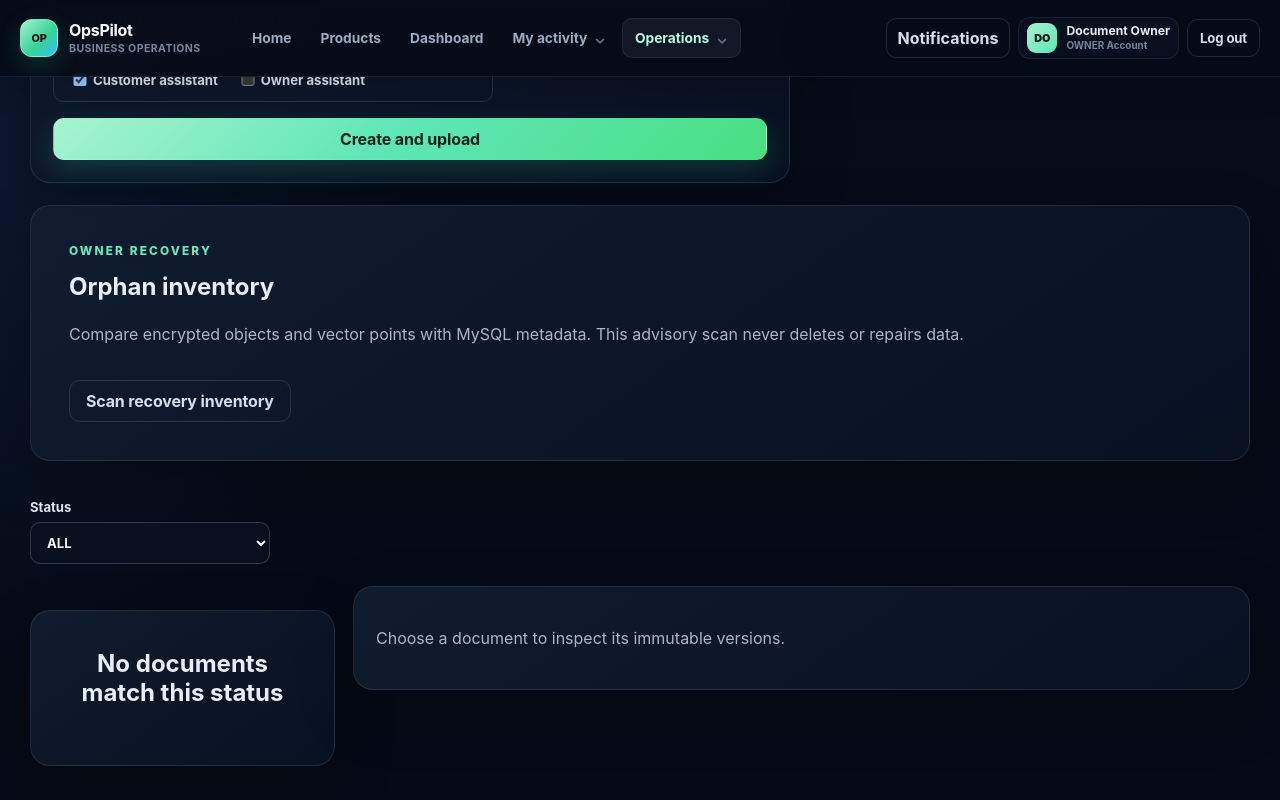
Phase 8 RAG UI › shows aggregate advisory recovery inventory only to the owner
(page scrolled)
Expected: the heading "Orphan inventory" is shown, [69,272,274,301]
Click the button "Scan recovery inventory".
click(180, 401)  # box [69,380,291,422]
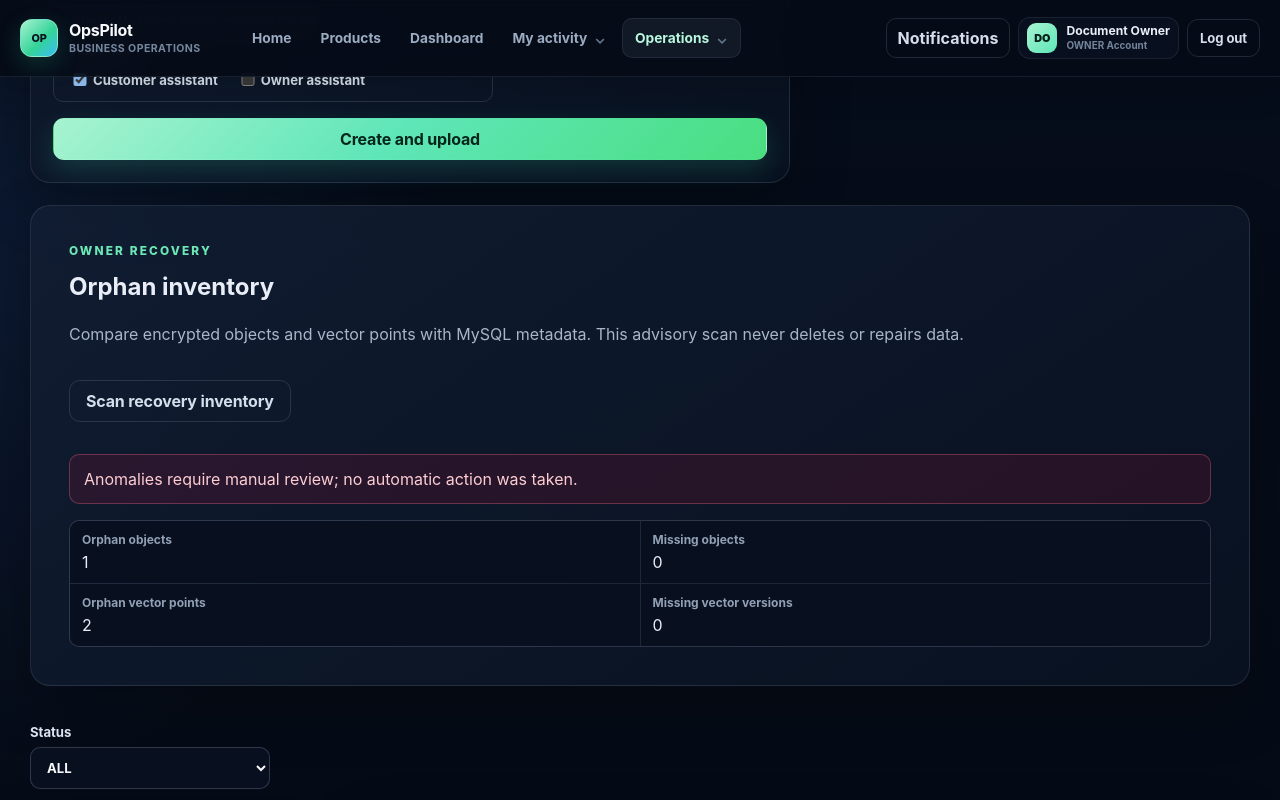
Expected: the text "Anomalies require manual review; no automatic action was taken." is shown, [69,454,1211,504]
Expected: the text "1" is shown, [82,552,88,572]
Expected: the text "2" is shown, [82,615,92,635]
